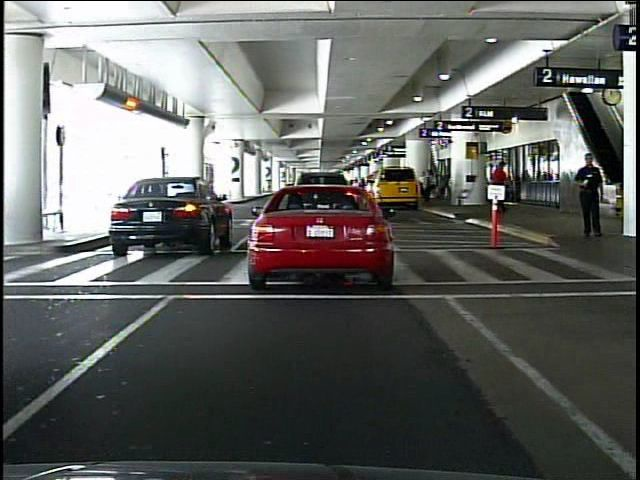person: (576, 151, 606, 241), (487, 159, 511, 215), (418, 165, 431, 202)
